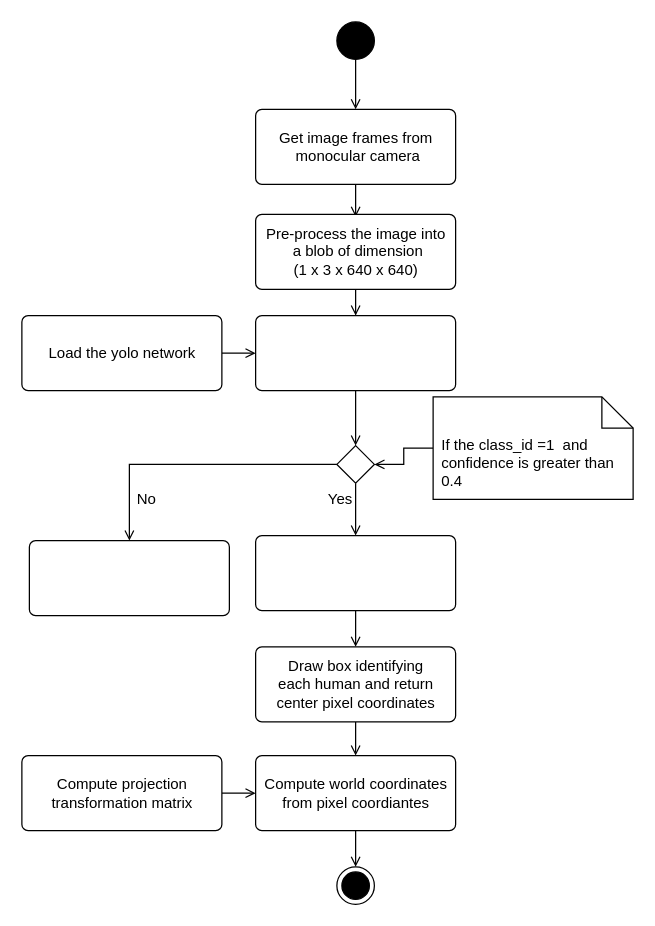
This 655x926 diagram has some shape labels left out. The shapes that lost their labels are listed below. From the top down, each one's box as (x1, y1, x2, y2) in pixels, then its label:
(254, 314, 456, 391): Get prediction result from input blob
(28, 539, 229, 616): Skip that prediction
(254, 534, 456, 611): Get outline coordinates for that prediction
